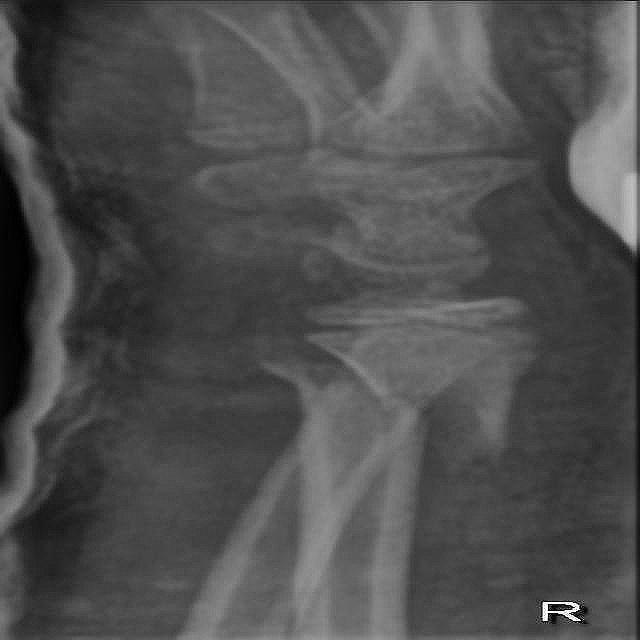bone: (238, 345, 532, 479)
